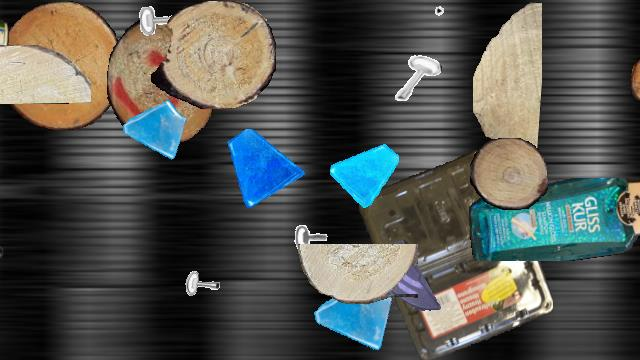glass: (312, 275, 396, 359), (225, 129, 305, 209), (366, 234, 446, 314), (121, 97, 189, 165), (330, 139, 398, 207)
metal: (133, 1, 193, 61), (179, 247, 231, 299), (391, 52, 441, 102), (292, 206, 338, 252), (434, 1, 474, 41), (635, 197, 640, 241)
plastic: (359, 149, 553, 359), (469, 178, 640, 260), (0, 1, 8, 71), (0, 184, 3, 258)
wood: (0, 1, 123, 129), (151, 1, 275, 109), (107, 20, 215, 142), (473, 1, 541, 159), (298, 244, 418, 304), (470, 138, 548, 210), (0, 45, 90, 103), (631, 47, 640, 109)
